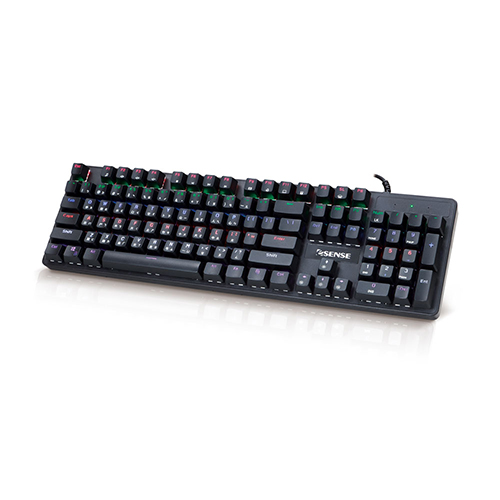keyboard: (34, 157, 460, 336)
